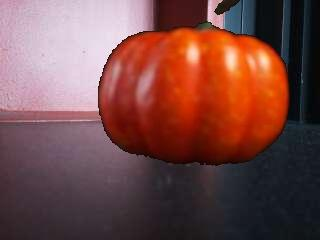Pumpkin: (98, 21, 289, 166)
